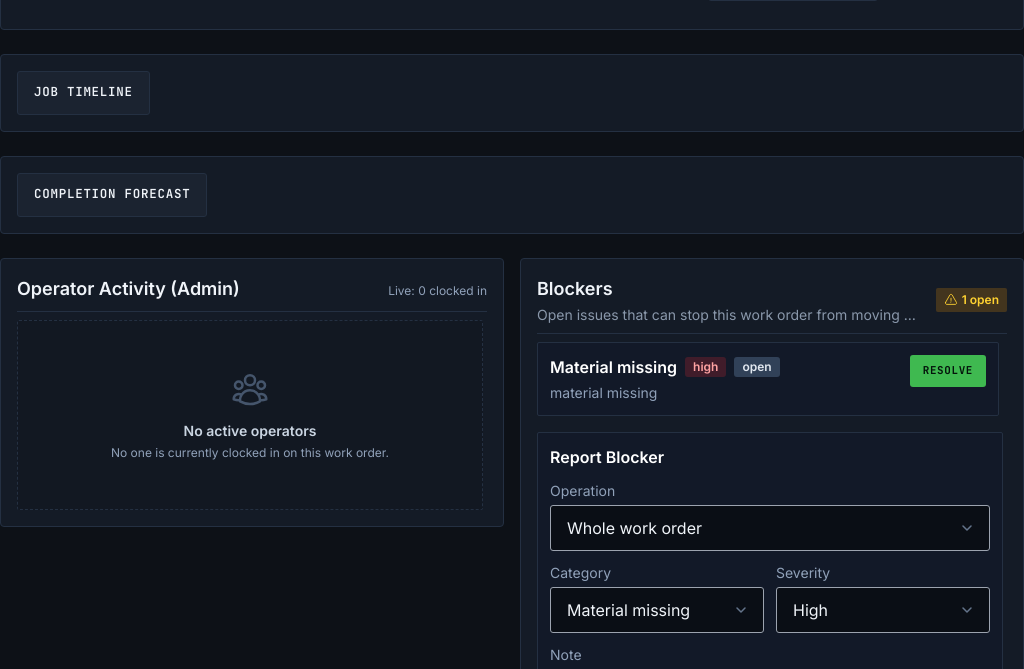
Test: WorkOrderDetail resolve-blocker InputDialog › submit resolves with the entered trimmed note, refetches, and closes
(page scrolled)
Step 1. Click the button "Resolve" → {"x": 948, "y": 370}, box [910,354,986,386]
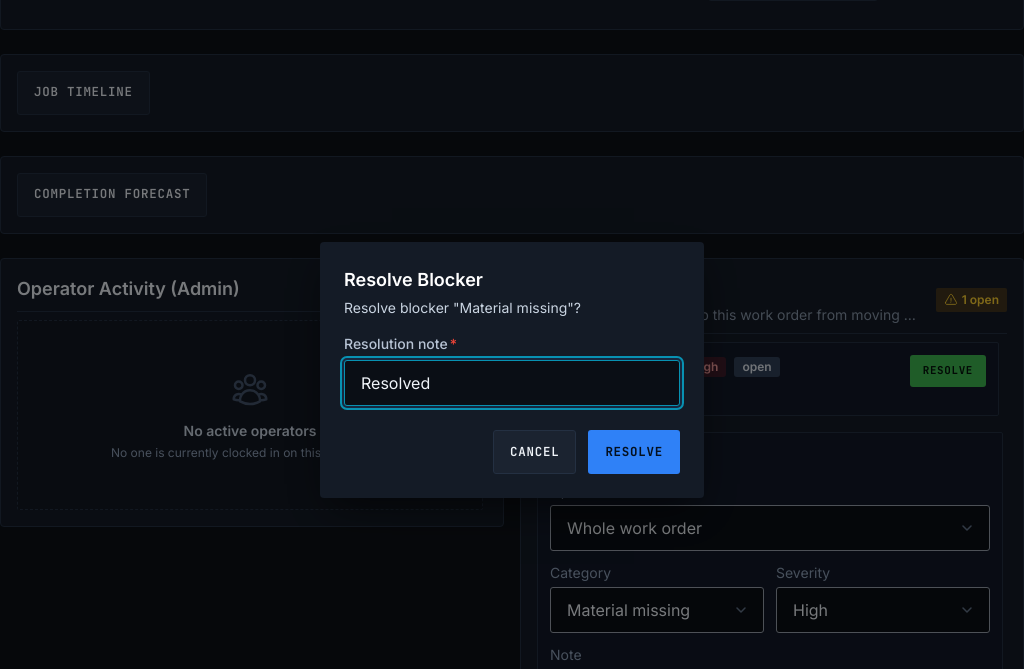
Step 2. Replace the text in the field labelled "Resolution note*" with "  Vendor delivered this morning  " → {"x": 512, "y": 383}, box [344,360,680,406]
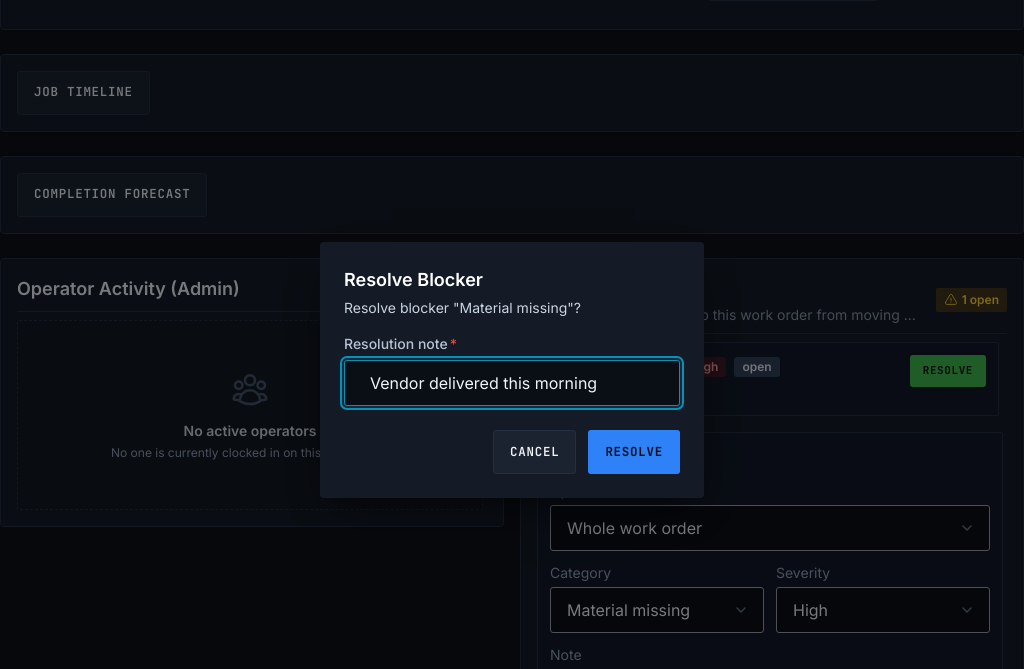
Step 3. Click the button "Resolve" → {"x": 634, "y": 452}, box [588,430,680,474]
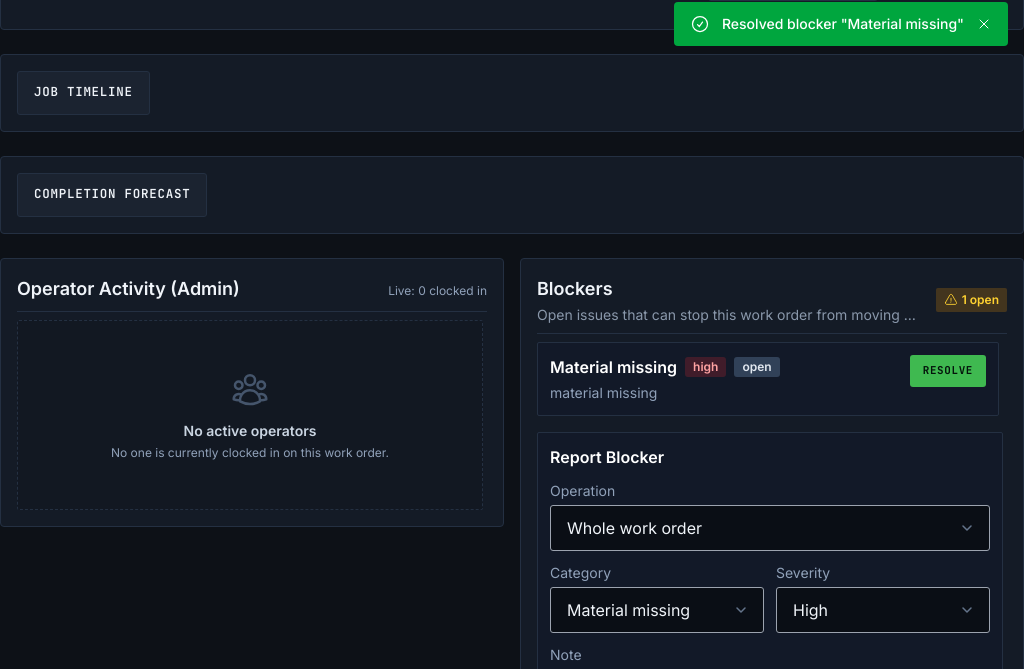
Expected: the dialog is gone
